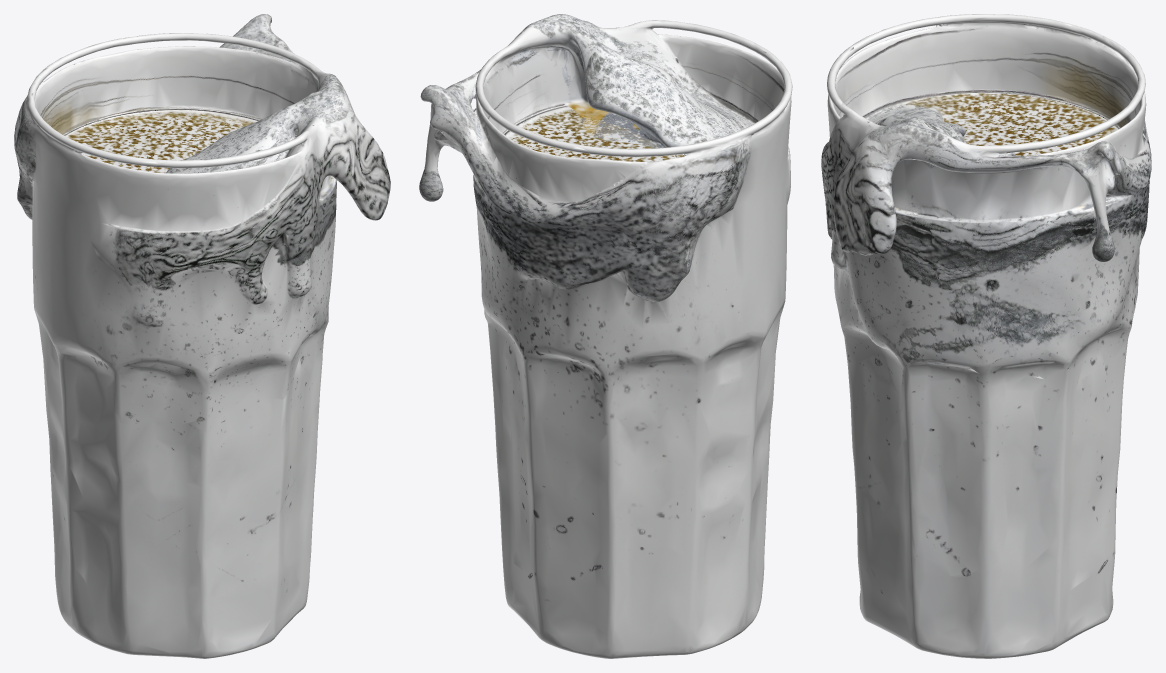
Rendered from hunger_cup.glb.
3 views of the same model, side by side, from view 1: azimuth 30°, elevation 25°; view 2: azimuth 150°, elevation 25°; view 3: azimuth 270°, elevation 25° (orthographic). The views are drawn at different scales.
Bounding box in the file's own units: 1.11 × 1.91 × 1.06.
Materials: 1 (1 with a texture image).
